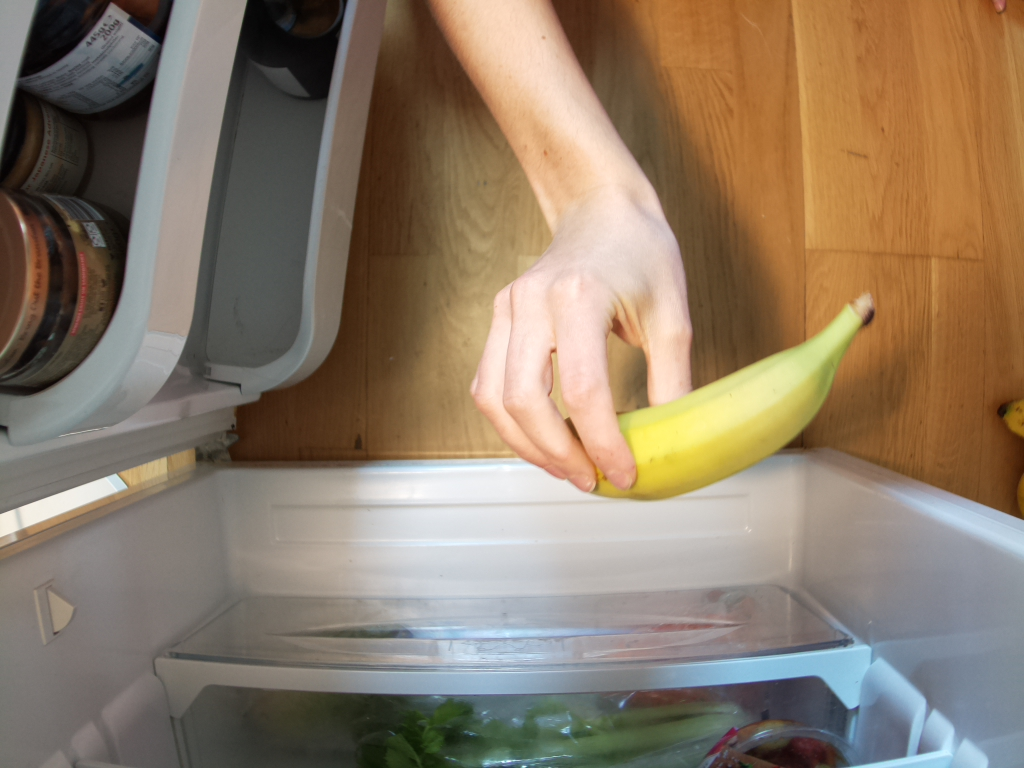banana-unripe: (584, 291, 884, 508)
